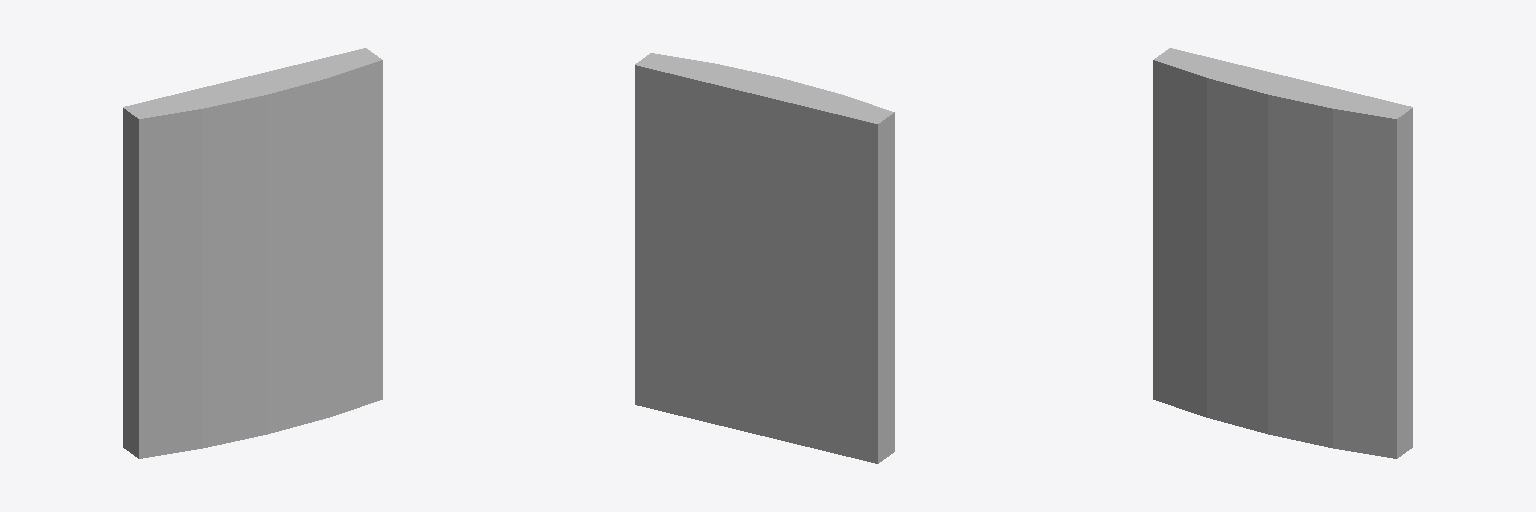
The model's file is lens_3.obj.
3 renders of one model, left to right at view 1: azimuth 30°, elevation 25°; view 2: azimuth 150°, elevation 25°; view 3: azimuth 330°, elevation 25°, orthographic.
Visible parts, largest first — view 1: Cylinder; view 2: Cylinder; view 3: Cylinder.
Part boxes in pixels (x1,y1,x2,y2): Cylinder: (123,48,382,458); Cylinder: (635,53,894,463); Cylinder: (1153,48,1412,458).
Size of the model in its own units: 1.5 by 2 by 0.25.